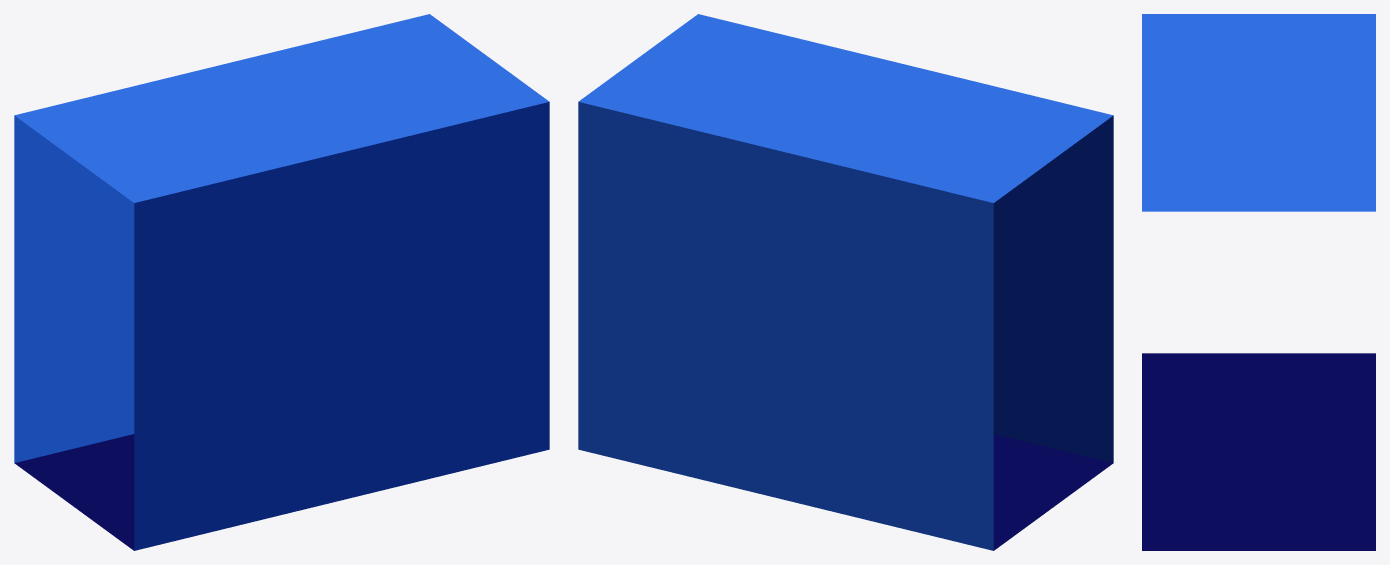
File: wall_straight_horizontal.glb
The picture shows the model from 3 angles, left to right: view 1: azimuth 30°, elevation 25°; view 2: azimuth 150°, elevation 25°; view 3: azimuth 270°, elevation 25°; orthographic projection. The views are drawn at different scales.
Visible parts, largest first — view 1: wall_straight_horizontal; view 2: wall_straight_horizontal; view 3: wall_straight_horizontal.
Part boxes in pixels (x1,y1,x2,y2): wall_straight_horizontal: (14,14,549,550); wall_straight_horizontal: (578,14,1113,550); wall_straight_horizontal: (1142,14,1375,550).
Bounding box in the file's own units: 1 × 0.8 × 0.5.
